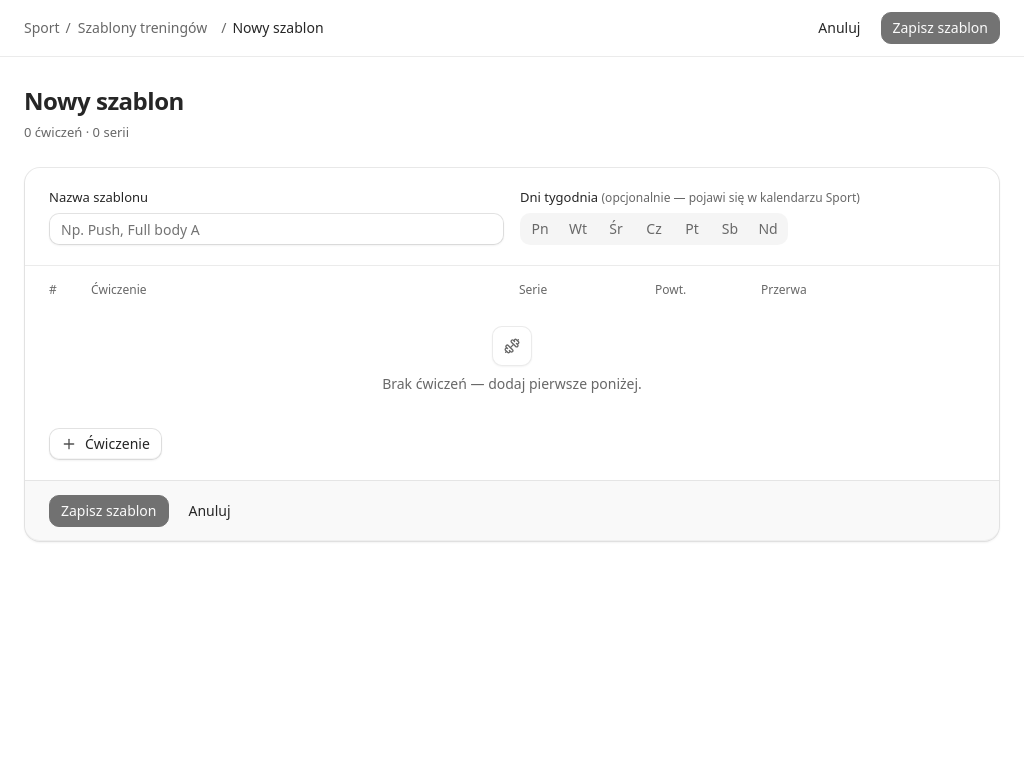
it: TemplateEditor — nowy szablon › nowe ćwiczenie z dymka: 3 serie, „8–10”, „2:00”
Step 1. Click the button with aria-label "+ Ćwiczenie" → (105, 444), box [49,428,162,460]
(page scrolled)
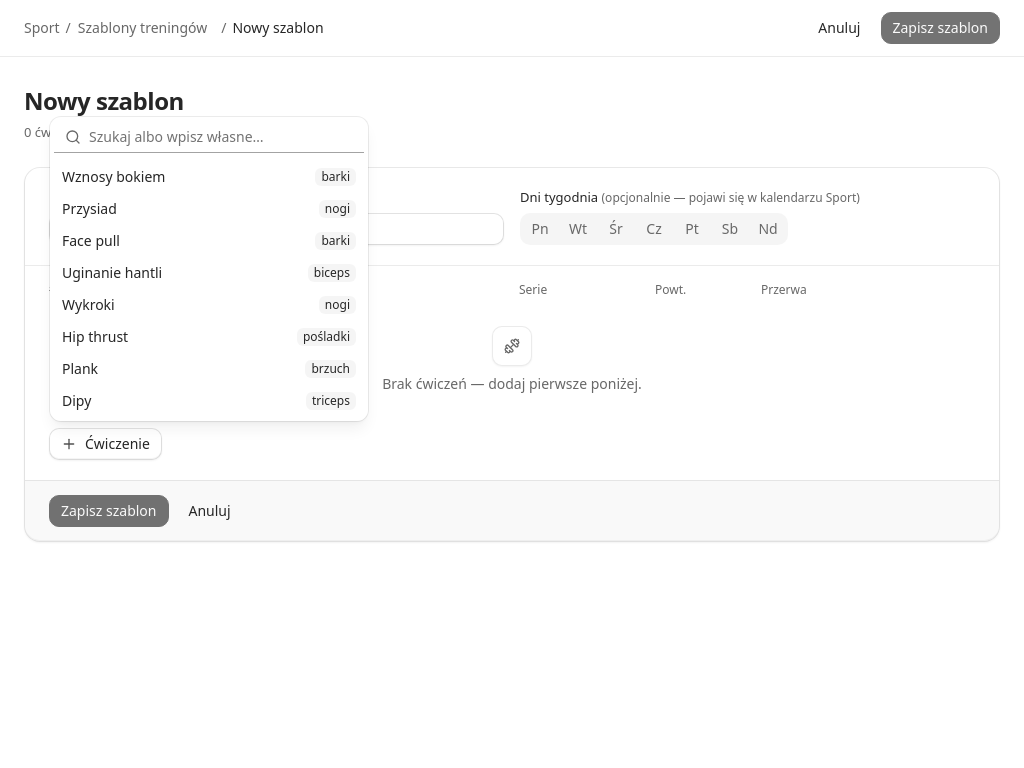
Step 2. Click the button "Hip thrust pośladki" → (95, 336), box [54,321,364,353]
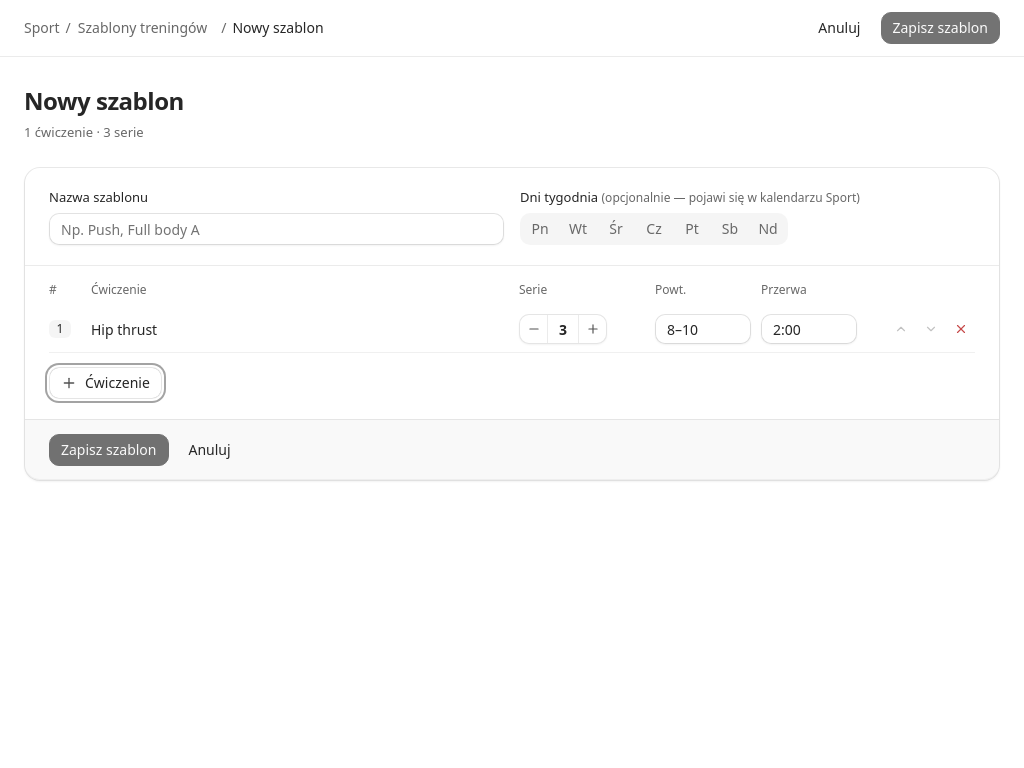
Check: the text with test id "serie-Hip thrust" reads "3", box [559,320,567,338]
Check: the field named "Hip thrust: powtórzenia" holds "8–10", box [655,314,751,344]
Check: the field named "Hip thrust: przerwa" holds "2:00", box [761,314,857,344]
